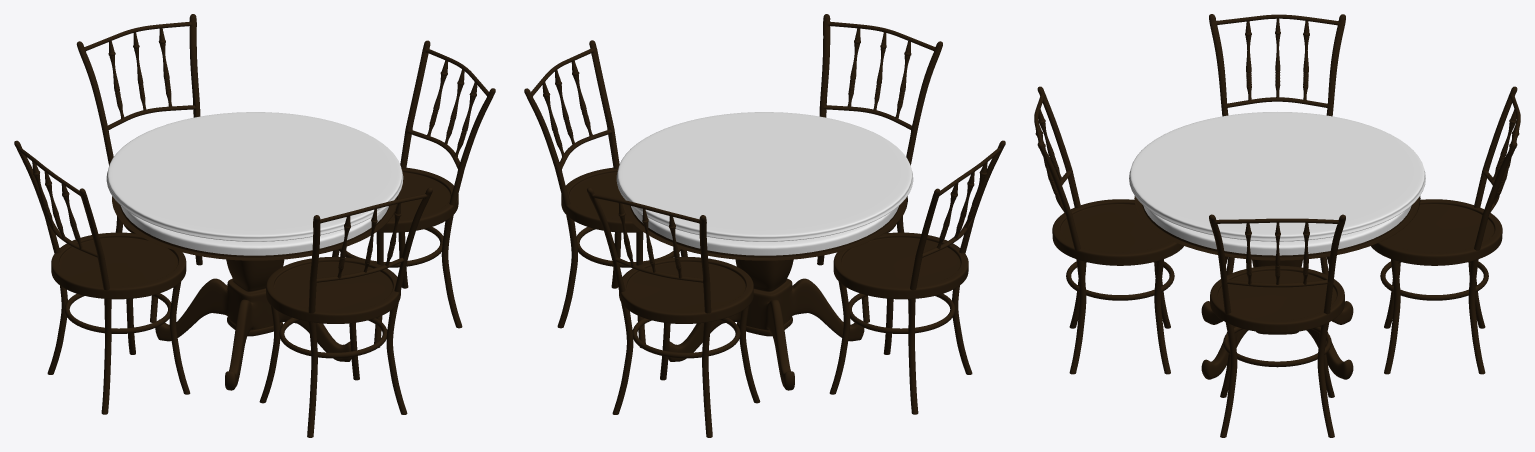
Rendered from coffeeshop_furniture_set.fbx.
3 views of the same model, side by side, from view 1: azimuth 30°, elevation 25°; view 2: azimuth 150°, elevation 25°; view 3: azimuth 270°, elevation 25° (orthographic).
Parts seen in each view (by area): view 1: table; view 2: table; view 3: table.
Boxes of the visible parts, box(x1,y1,x2,y2) form: table: box(14, 14, 495, 437); table: box(524, 14, 1005, 437); table: box(1034, 14, 1520, 437).
Size of the model in its own units: 175 by 93.45 by 175.
